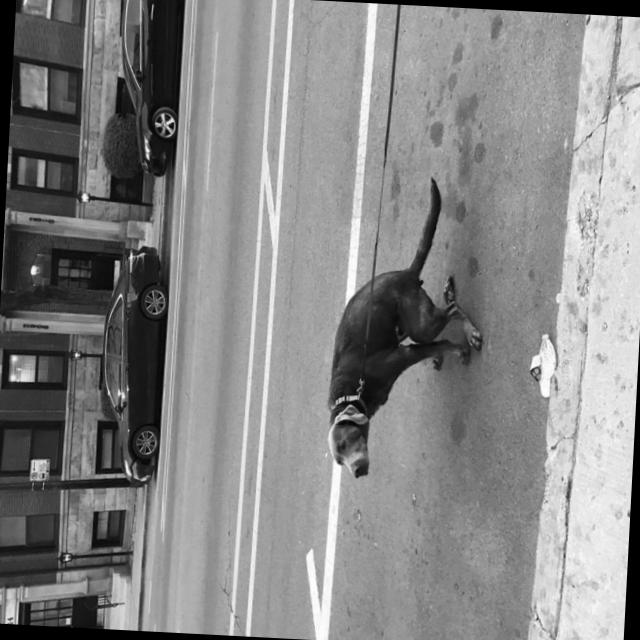squatting: (319, 166, 493, 492)
